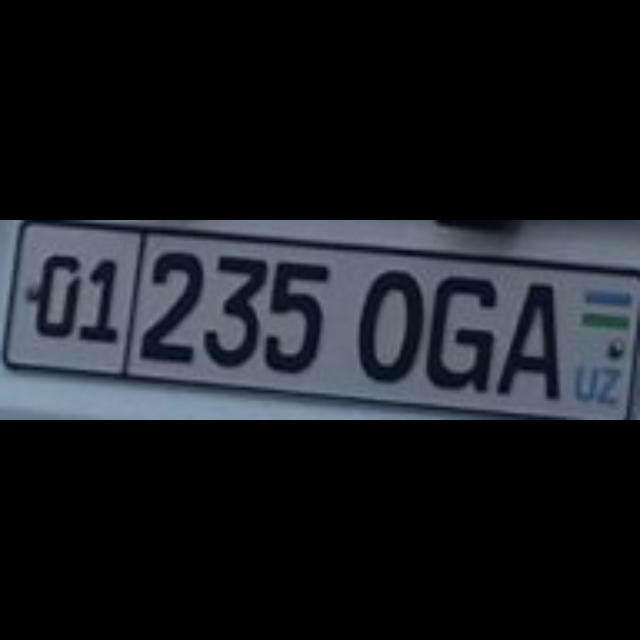0: (31, 250, 74, 334)
1: (76, 254, 114, 340)
2: (134, 246, 196, 360)
3: (196, 250, 264, 364)
5: (260, 256, 324, 370)
A: (493, 276, 553, 394)
G: (423, 274, 493, 391)
O: (349, 264, 416, 376)
